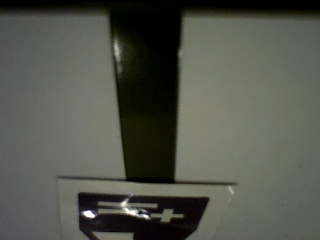Supply_Station: (75, 191, 211, 240)
